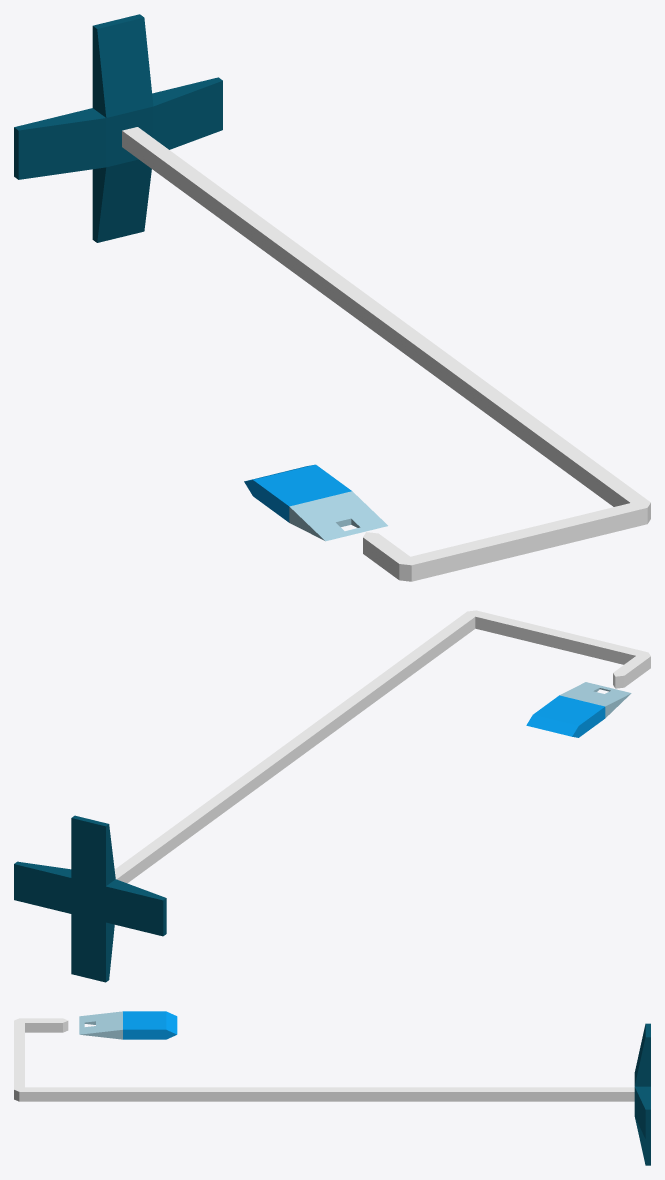
3 renders of one model, top to bottom at view 1: azimuth 30°, elevation 25°; view 2: azimuth 150°, elevation 25°; view 3: azimuth 270°, elevation 25°, orthographic. The views are drawn at different scales.
Visible parts, largest first — view 1: coords_ME_ID3_MA_Color_000, coords_ME_ID19_MA_material_21, coords_ME_ID33_MA_material_6, coords_ME_ID27_MA_material_20; view 2: coords_ME_ID3_MA_Color_000, coords_ME_ID19_MA_material_21, coords_ME_ID33_MA_material_6, coords_ME_ID27_MA_material_20; view 3: coords_ME_ID3_MA_Color_000, coords_ME_ID19_MA_material_21, coords_ME_ID33_MA_material_6, coords_ME_ID27_MA_material_20.
Part boxes in pixels (x1=…): coords_ME_ID3_MA_Color_000: x1=122, y1=127, x2=650, y2=581; coords_ME_ID19_MA_material_21: x1=14, y1=14, x2=222, y2=242; coords_ME_ID33_MA_material_6: x1=244, y1=464, x2=351, y2=522; coords_ME_ID27_MA_material_20: x1=289, y1=491, x2=387, y2=541; coords_ME_ID3_MA_Color_000: x1=114, y1=610, x2=650, y2=883; coords_ME_ID19_MA_material_21: x1=14, y1=815, x2=166, y2=982; coords_ME_ID33_MA_material_6: x1=526, y1=695, x2=605, y2=737; coords_ME_ID27_MA_material_20: x1=560, y1=682, x2=631, y2=717; coords_ME_ID3_MA_Color_000: x1=14, y1=1018, x2=634, y2=1101; coords_ME_ID19_MA_material_21: x1=634, y1=1023, x2=650, y2=1165; coords_ME_ID33_MA_material_6: x1=123, y1=1011, x2=177, y2=1039; coords_ME_ID27_MA_material_20: x1=79, y1=1011, x2=122, y2=1039.
Bounding box in the file's own units: 8.33 × 4.61 × 20.73.
